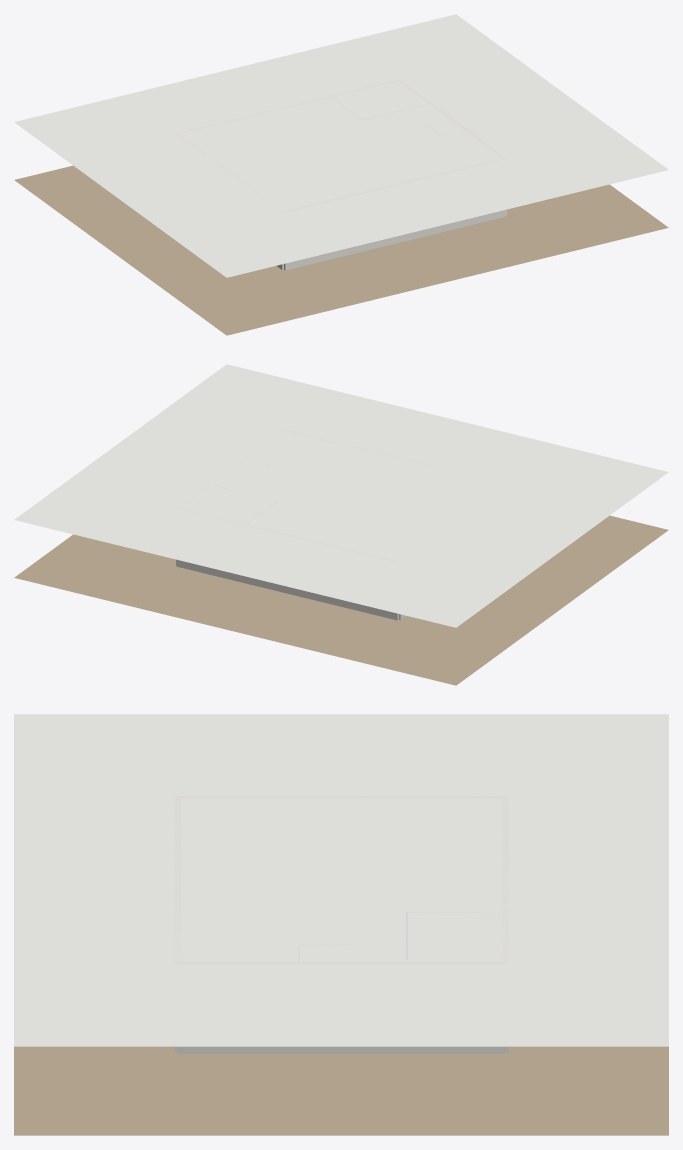
3 renders of one model, top to bottom at view 1: azimuth 30°, elevation 25°; view 2: azimuth 150°, elevation 25°; view 3: azimuth 270°, elevation 25°, orthographic. The views are drawn at different scales.
Parts seen in each view (by area): view 1: Ceiling, Floor, Wall_South; view 2: Ceiling, Floor, Wall_North; view 3: Ceiling, Floor, Wall_East, Wall_South, Wall_North, Wall_West.
Boxes of the visible parts, box(x1,y1,x2,y2) form: Ceiling: box(14, 14, 668, 277); Floor: box(14, 165, 668, 335); Wall_South: box(283, 158, 506, 270); Ceiling: box(14, 364, 668, 627); Floor: box(14, 515, 668, 685); Wall_North: box(176, 509, 398, 620); Ceiling: box(14, 714, 668, 1046); Floor: box(14, 1046, 668, 1135); Wall_East: box(177, 962, 505, 1053); Wall_South: box(174, 797, 180, 1052); Wall_North: box(502, 797, 508, 1052); Wall_West: box(177, 796, 505, 798).
Bounding box in the file's own units: 24 × 3 × 20.
